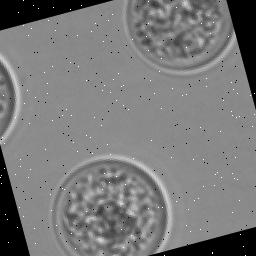picoshell: (50, 153, 173, 256), (124, 0, 237, 75), (0, 51, 22, 143)
